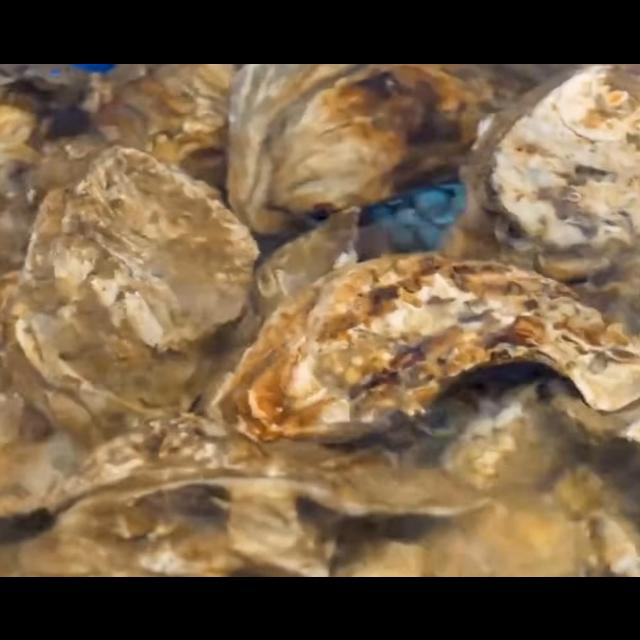Oyster-Closed: (208, 250, 640, 444), (10, 146, 262, 457), (386, 382, 640, 576), (225, 62, 497, 234), (460, 64, 640, 300), (80, 63, 236, 171)
Oyster-Open: (0, 409, 490, 576)
